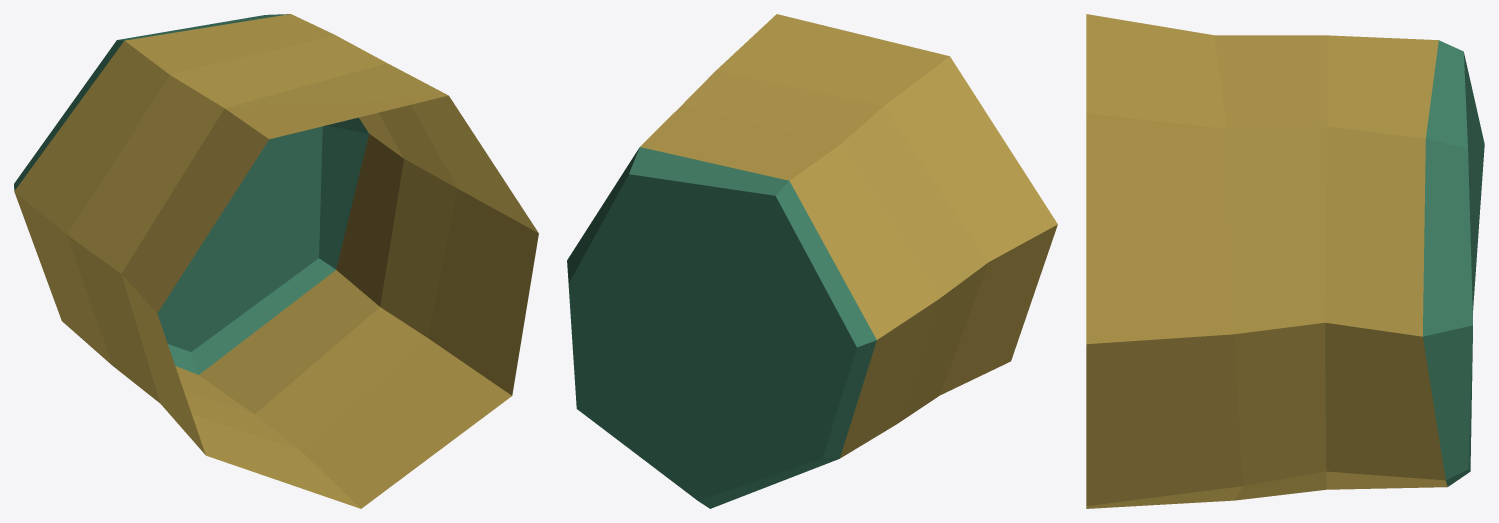
The model's file is Cliff_1.fbx.
The picture shows the model from 3 angles, left to right: view 1: azimuth 30°, elevation 25°; view 2: azimuth 150°, elevation 25°; view 3: azimuth 270°, elevation 25°; orthographic projection. The views are drawn at different scales.
Visible parts, largest first — view 1: Cliff_1.001; view 2: Cliff_1.001; view 3: Cliff_1.001.
Boxes of the visible parts, box(x1,y1,x2,y2) form: Cliff_1.001: box(14, 14, 538, 508); Cliff_1.001: box(567, 14, 1057, 508); Cliff_1.001: box(1086, 14, 1484, 508).
Size of the model in its own units: 7.48 by 7.34 by 5.97.
